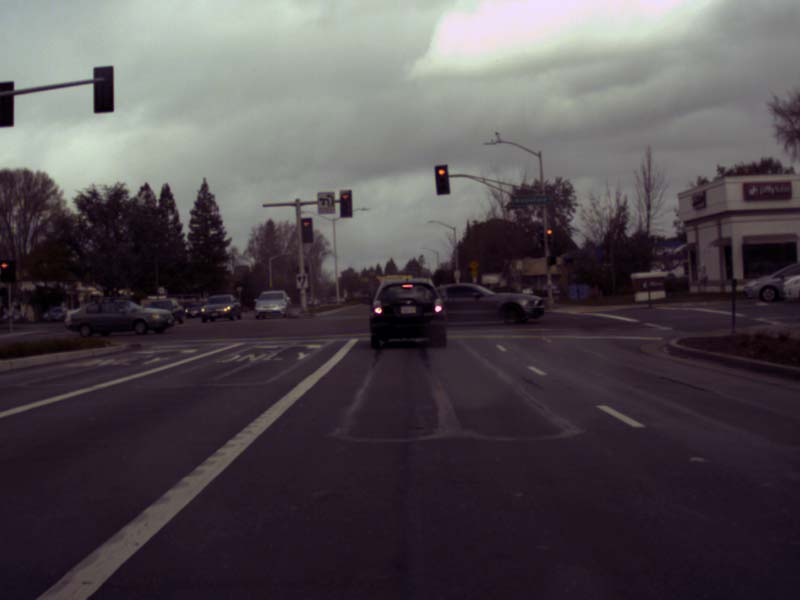Red: (434, 165, 448, 194), (300, 217, 313, 243), (340, 189, 351, 217), (546, 227, 553, 248)
